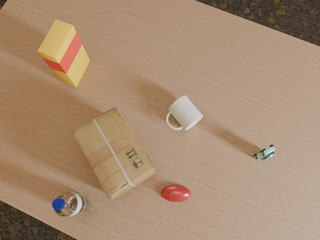bottle: (52, 192, 90, 216)
box: (71, 108, 158, 200), (38, 20, 90, 87)
cup: (166, 96, 203, 130)
mouse: (161, 185, 191, 202)
toy_car: (254, 145, 275, 161)
